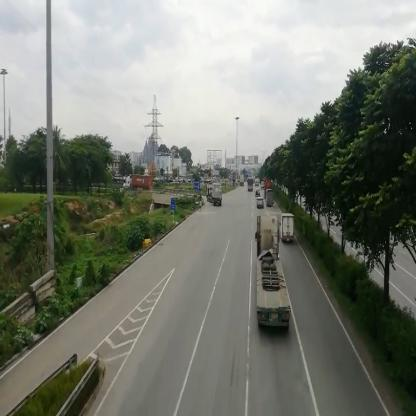car: (258, 198, 264, 207)
container: (257, 217, 280, 322), (124, 175, 154, 193), (206, 187, 223, 208)
truck: (283, 215, 295, 243), (268, 191, 275, 209)
